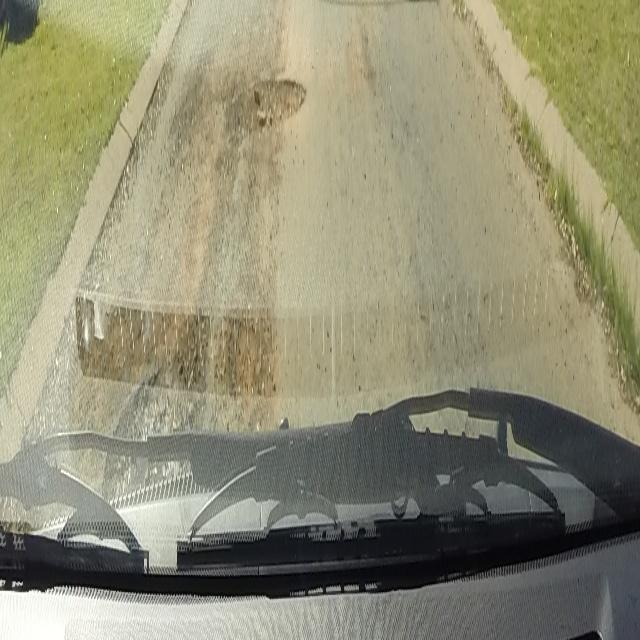pothole: (96, 356, 194, 473), (236, 70, 308, 134)
